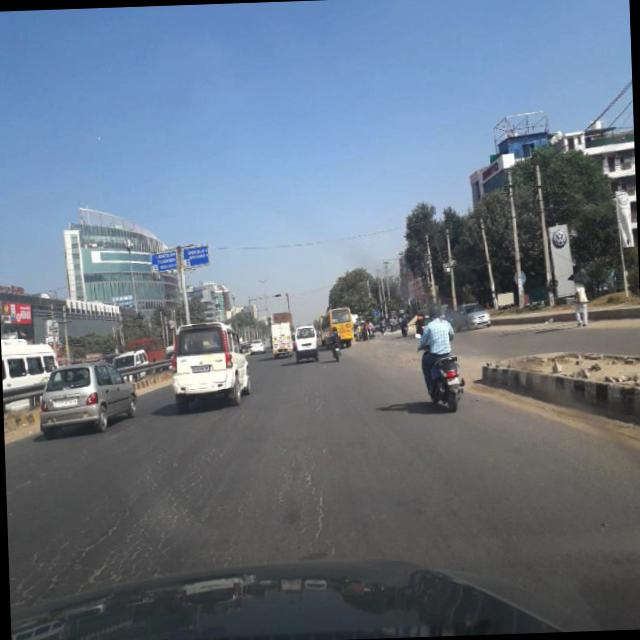crack: (14, 407, 262, 588)
pothole: (264, 376, 342, 544)
